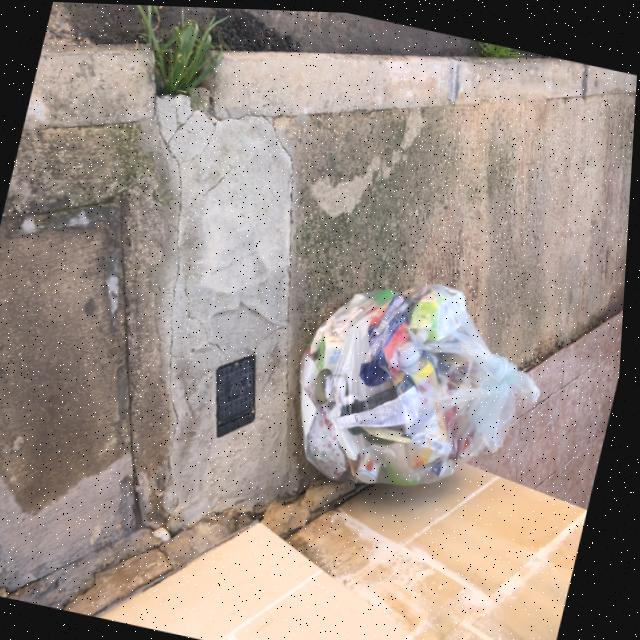Recycled Waste -Grey or Green Bag-: (279, 256, 566, 513)
